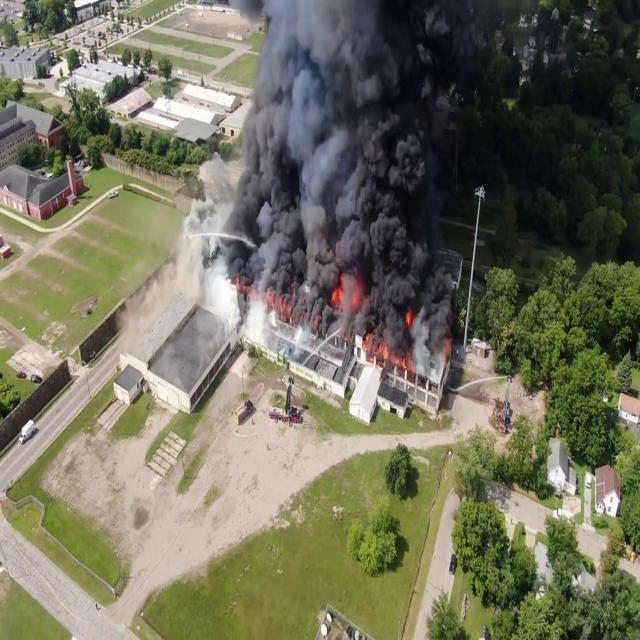Smoke: (187, 0, 535, 305)
